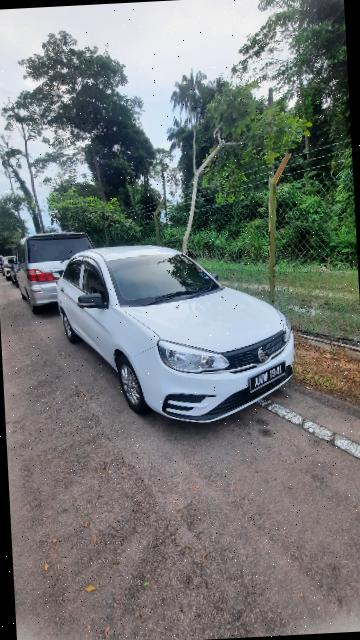License_Plate: (245, 354, 296, 401)
car: (53, 230, 302, 434)
